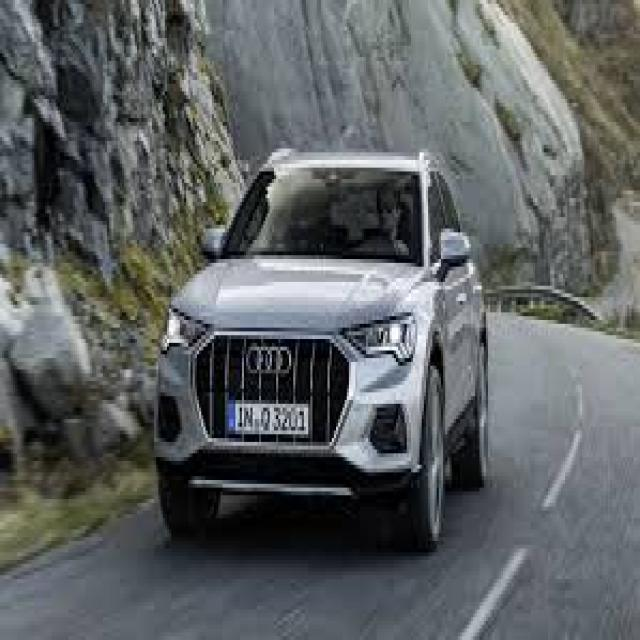Car: (155, 151, 489, 548)
